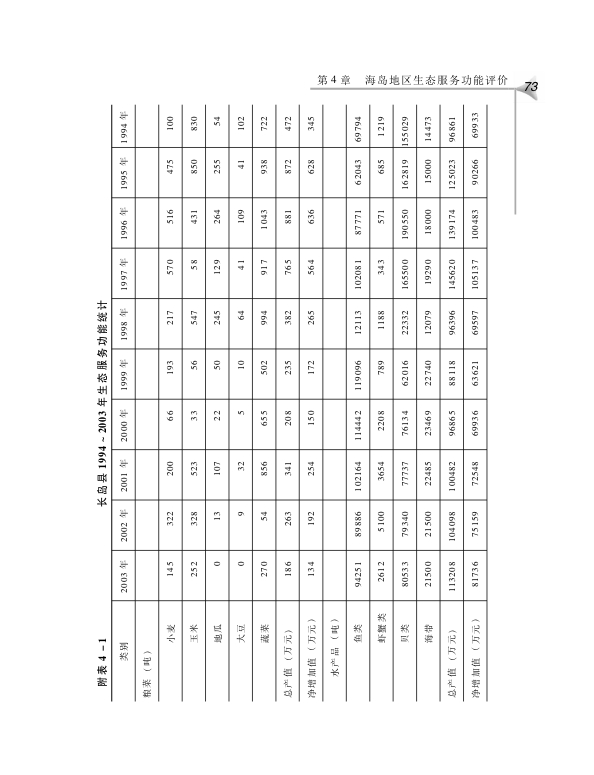table: (111, 104, 487, 701)
